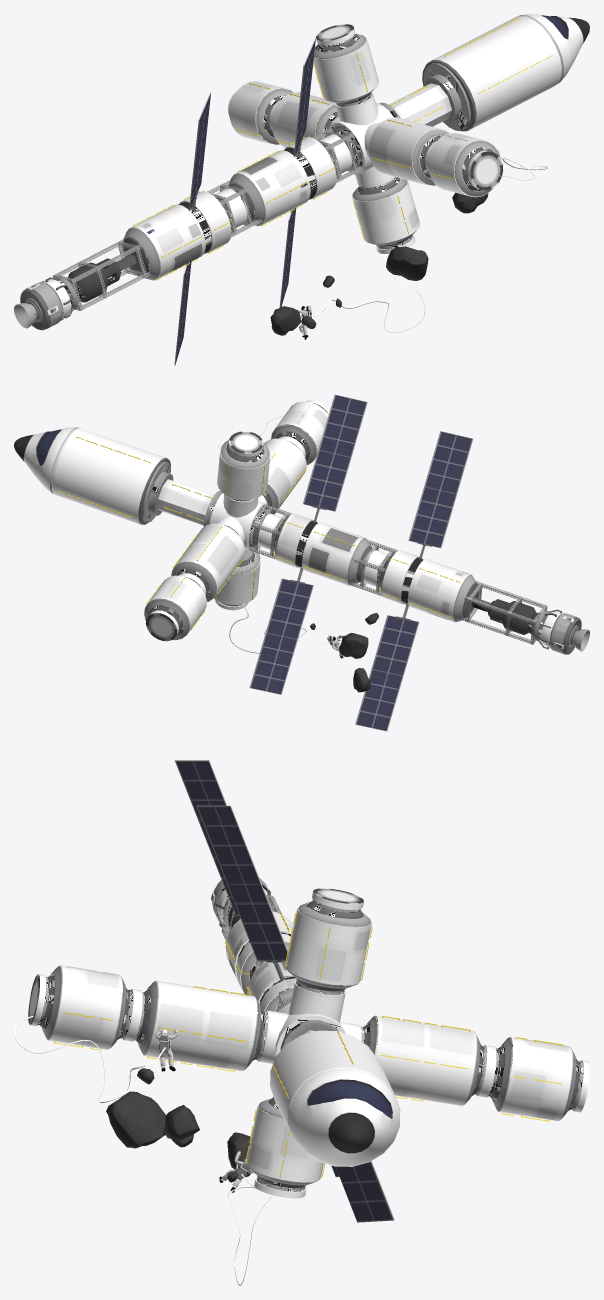
Rendered from craft.glb.
3 views of the same model, one above another, from view 1: azimuth 30°, elevation 25°; view 2: azimuth 150°, elevation 25°; view 3: azimuth 270°, elevation 25° (orthographic). The views are drawn at different scales.
Parts seen in each view (by area): view 1: polySurface14371_FinalTexture_0, polySurface14371_Scaffold1_0, polySurface14371_phong4_0; view 2: polySurface14371_FinalTexture_0, polySurface14371_Scaffold1_0, polySurface14371_phong4_0; view 3: polySurface14371_FinalTexture_0, polySurface14371_phong4_0.
Part boxes in pixels (box(x1,y1,x2,y2)): polySurface14371_FinalTexture_0: box(14, 14, 589, 365); polySurface14371_Scaffold1_0: box(53, 128, 363, 310); polySurface14371_phong4_0: box(270, 192, 488, 335); polySurface14371_FinalTexture_0: box(14, 394, 589, 731); polySurface14371_Scaffold1_0: box(249, 504, 547, 644); polySurface14371_phong4_0: box(310, 613, 378, 692); polySurface14371_FinalTexture_0: box(14, 760, 589, 1285); polySurface14371_phong4_0: box(106, 1068, 250, 1182).
Size of the model in its own units: 80.72 by 41.88 by 50.21.
Materials: 6 (5 with a texture image).
